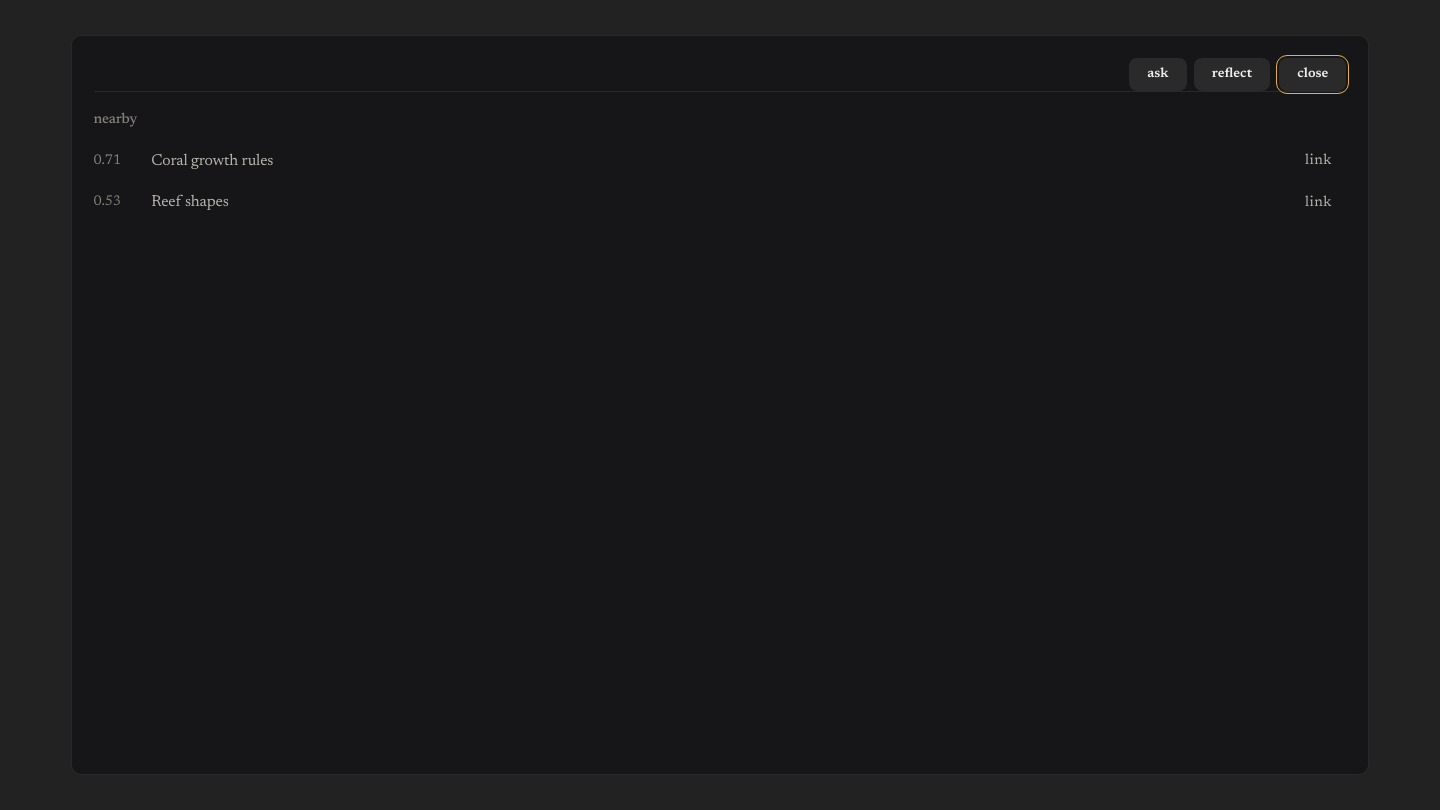
it: a tap the model could not argue is listed as linked by hand
Click the button with aria-label "link Reef shapes" at [1318, 202], box [1291,184,1346,220]
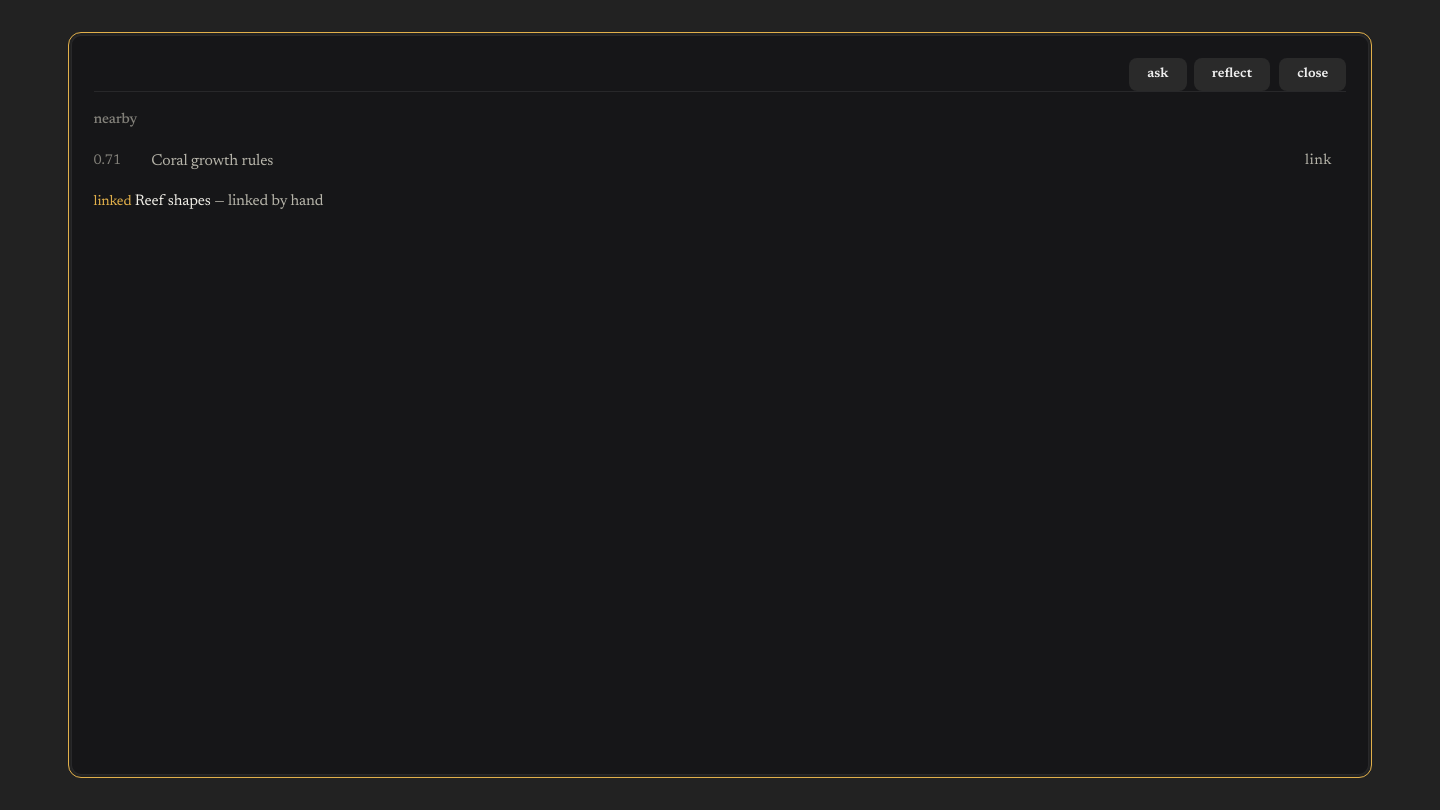
Expected: the list "linked" shows "Reef shapes — linked by hand", [94,194,323,209]
